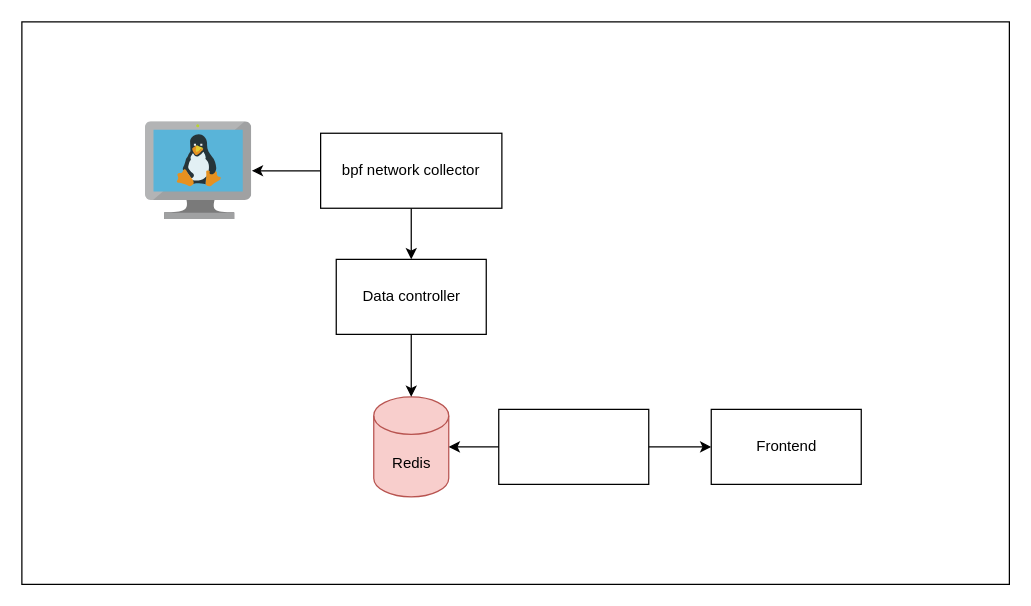
The diagram is 1031 pixels wide and 606 high, and some of its shapes have lost their labels. The shapes that lost their labels are listed below. From the top down, each one's box as (x1, y1, x2, y2) in pixels, then its label:
(145, 121, 251, 219): Kubernetes Node
(498, 408, 649, 484): Controller
